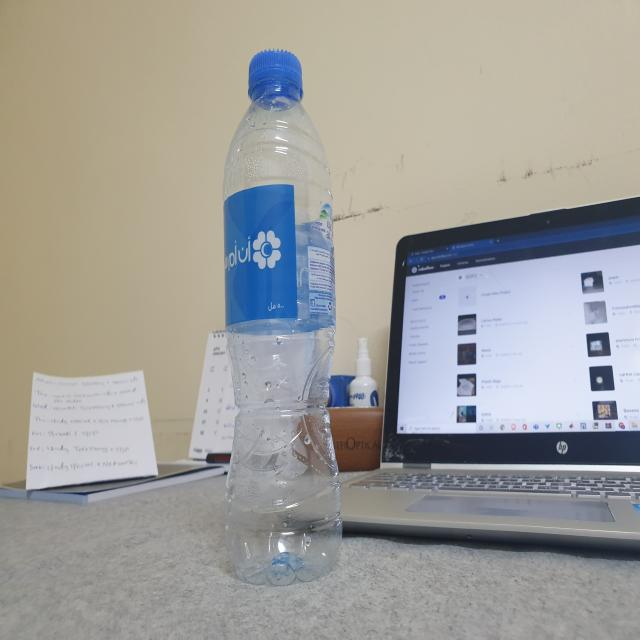bottle: (221, 48, 342, 581)
